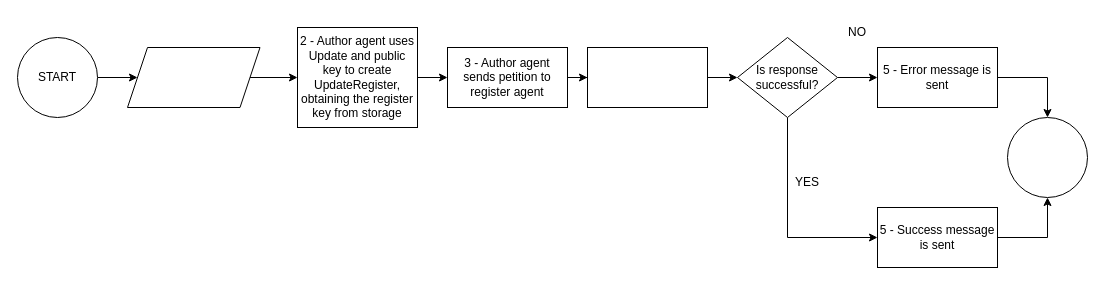
This 1105x285 diagram has some shape labels left out. Here are the shapes that lost their labels. From the top down, the centre of each, then its label:
(x=193, y=77): 1 - Author sends petition with Update and author's public key
(x=647, y=77): 4 - Register agent sends response
(x=1047, y=157): END
